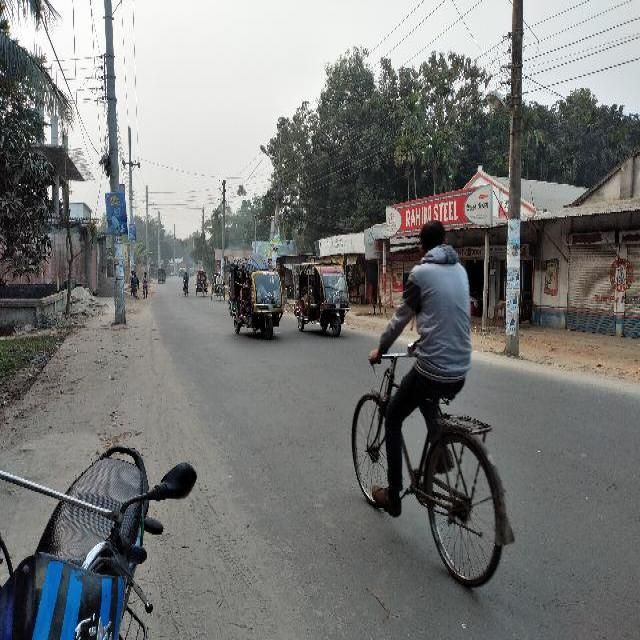bike: (352, 241, 531, 596), (3, 421, 202, 640), (184, 271, 191, 296)
vehicle: (294, 253, 357, 341), (229, 258, 289, 344), (211, 272, 226, 303), (196, 270, 209, 298), (158, 268, 167, 284), (179, 264, 188, 277), (171, 268, 176, 278), (190, 268, 194, 278)
